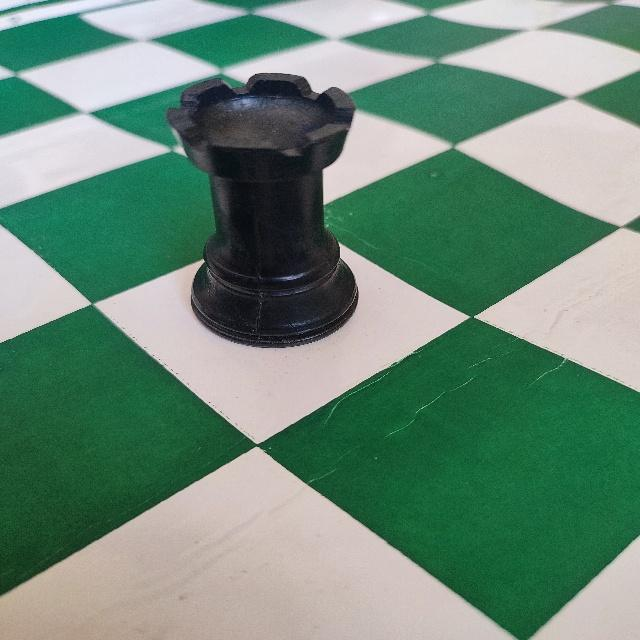Rook: (162, 68, 364, 354)
